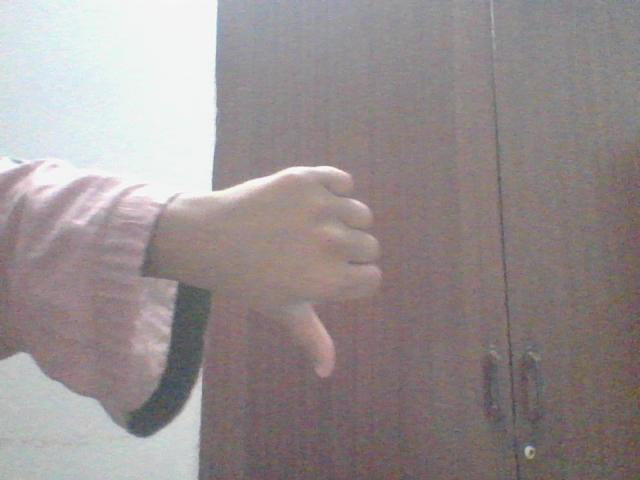thumbs-down: (239, 163, 393, 390)
